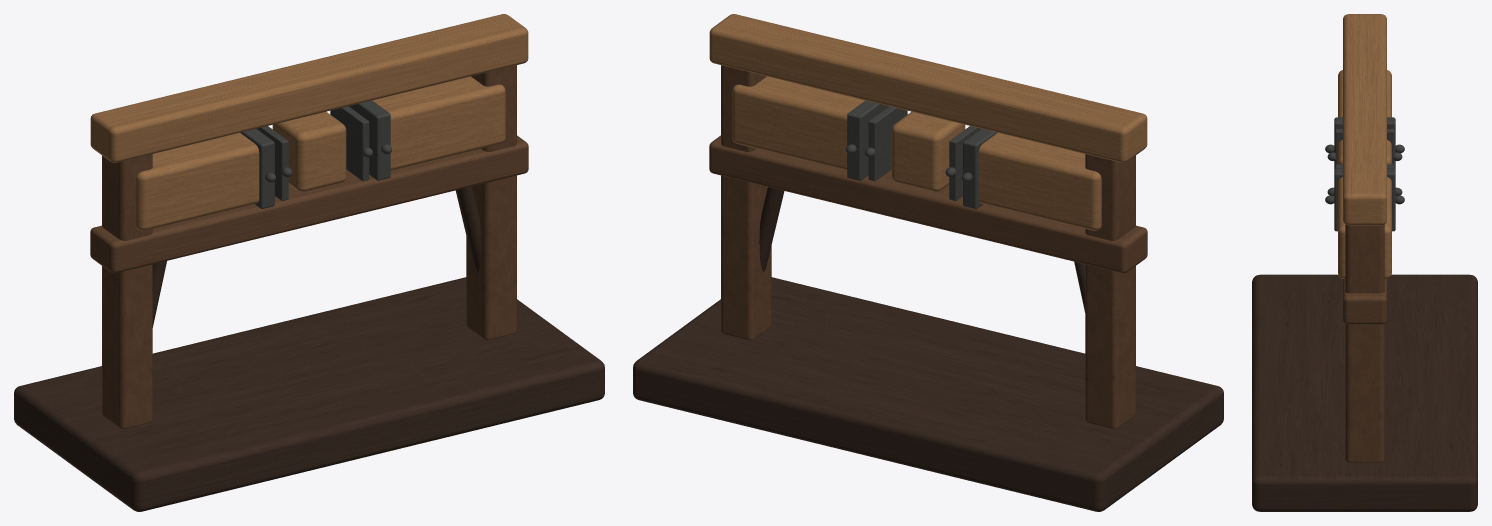
The model's file is pillory.glb.
3 views of the same model, side by side, from view 1: azimuth 30°, elevation 25°; view 2: azimuth 150°, elevation 25°; view 3: azimuth 270°, elevation 25° (orthographic). The views are drawn at different scales.
Visible parts, largest first — view 1: pillory; view 2: pillory; view 3: pillory.
Boxes of the visible parts, bbox=[...] form: pillory: bbox=[14, 14, 604, 511]; pillory: bbox=[633, 14, 1223, 511]; pillory: bbox=[1252, 14, 1477, 511].
Bounding box in the file's own units: 2.6 × 1.8 × 1.2.
1 material, 1 textured.
